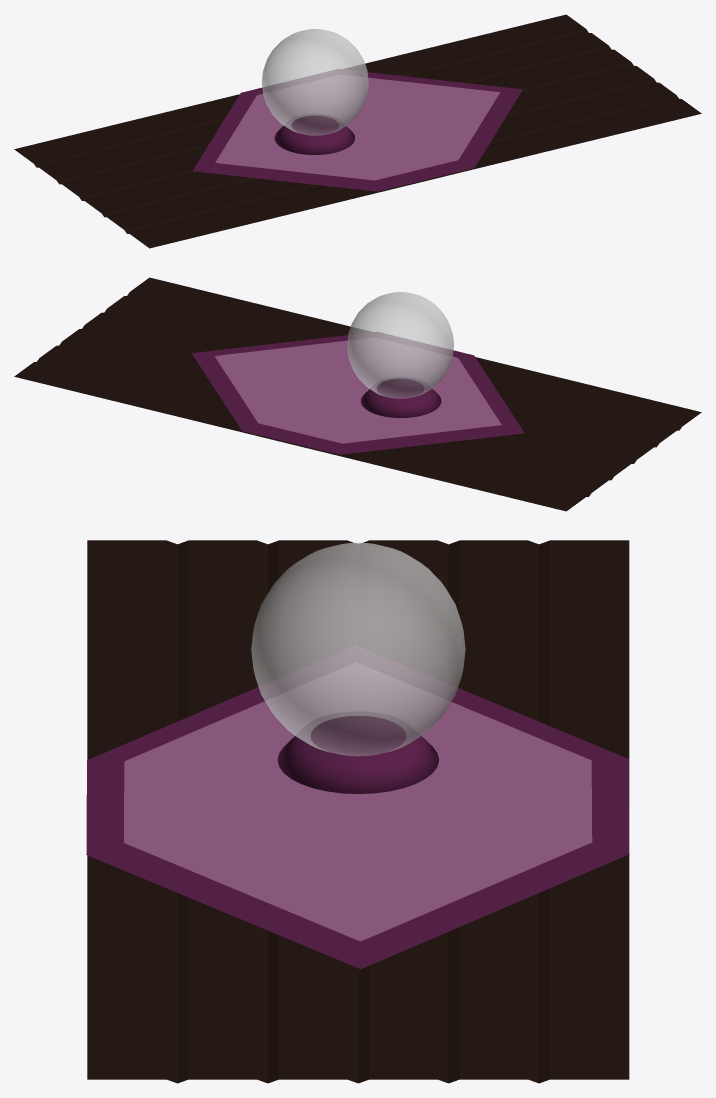
The model's file is Table.fbx.
3 views of the same model, one above another, from view 1: azimuth 30°, elevation 25°; view 2: azimuth 150°, elevation 25°; view 3: azimuth 270°, elevation 25° (orthographic). The views are drawn at different scales.
Parts seen in each view (by area): view 1: Table, Cloth2, CrystalBall, Cloth, Base; view 2: Table, Cloth2, CrystalBall, Cloth, Base; view 3: Table, Cloth2, CrystalBall, Cloth, Base.
Part boxes in pixels (box(x1,y1,x2,y2)): Table: box(14, 14, 701, 248); Cloth2: box(215, 75, 499, 180); CrystalBall: box(262, 29, 368, 135); Cloth: box(192, 69, 522, 191); Base: box(274, 114, 354, 154); Table: box(14, 277, 701, 511); Cloth2: box(214, 337, 501, 443); CrystalBall: box(347, 292, 453, 398); Cloth: box(192, 332, 524, 454); Base: box(361, 377, 441, 417); Table: box(87, 540, 629, 1083); Cloth2: box(124, 662, 592, 941); CrystalBall: box(251, 542, 465, 756); Cloth: box(86, 646, 629, 969); Base: box(277, 711, 438, 793).
Bounding box in the file's own units: 471 × 89.45 × 200.
